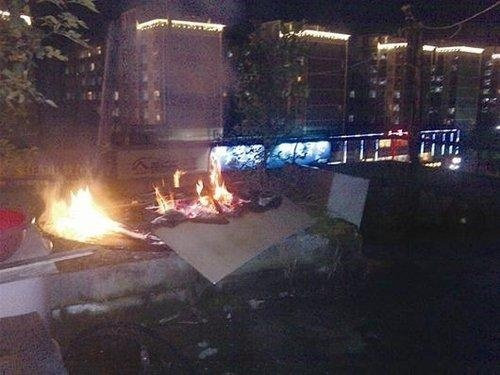fire: (154, 155, 236, 213), (45, 183, 121, 242)
